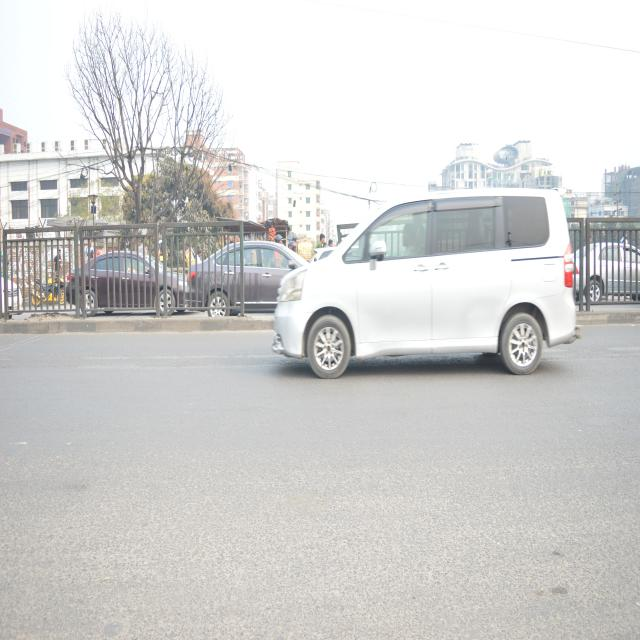car: (68, 246, 187, 330), (190, 234, 306, 320), (573, 235, 640, 315)
microbus: (270, 193, 576, 376)
motorbike: (29, 260, 66, 320)
